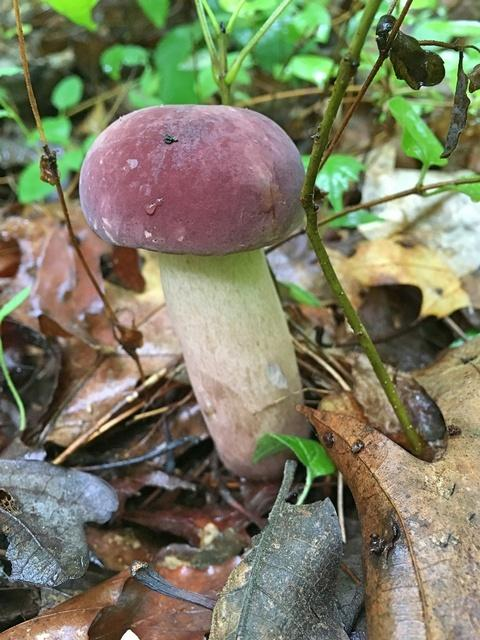poisonous_mushroom: (77, 101, 314, 482)
